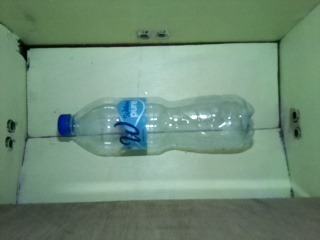bottle: (56, 94, 255, 155)
